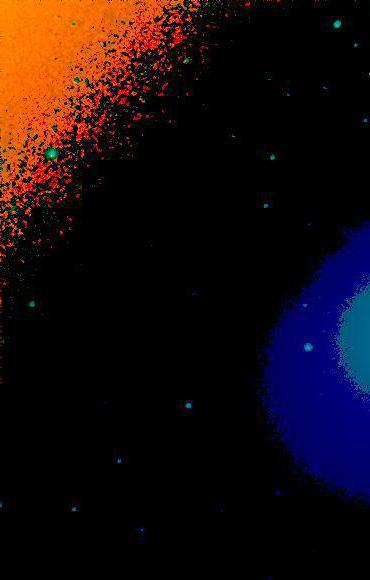star: (2, 217, 32, 247)
